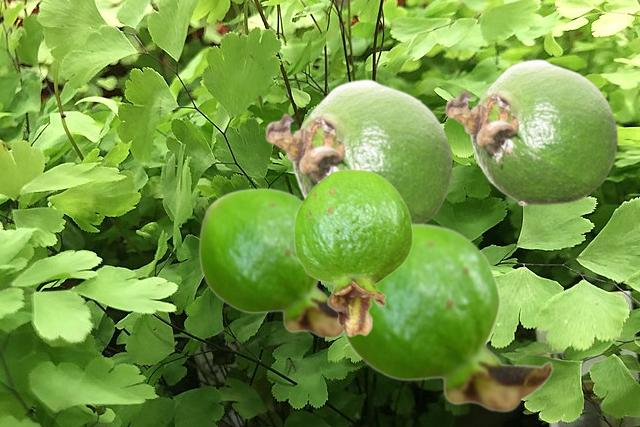guava: (343, 222, 553, 412), (264, 78, 453, 222), (444, 58, 618, 205), (198, 187, 343, 338), (293, 168, 412, 336)
